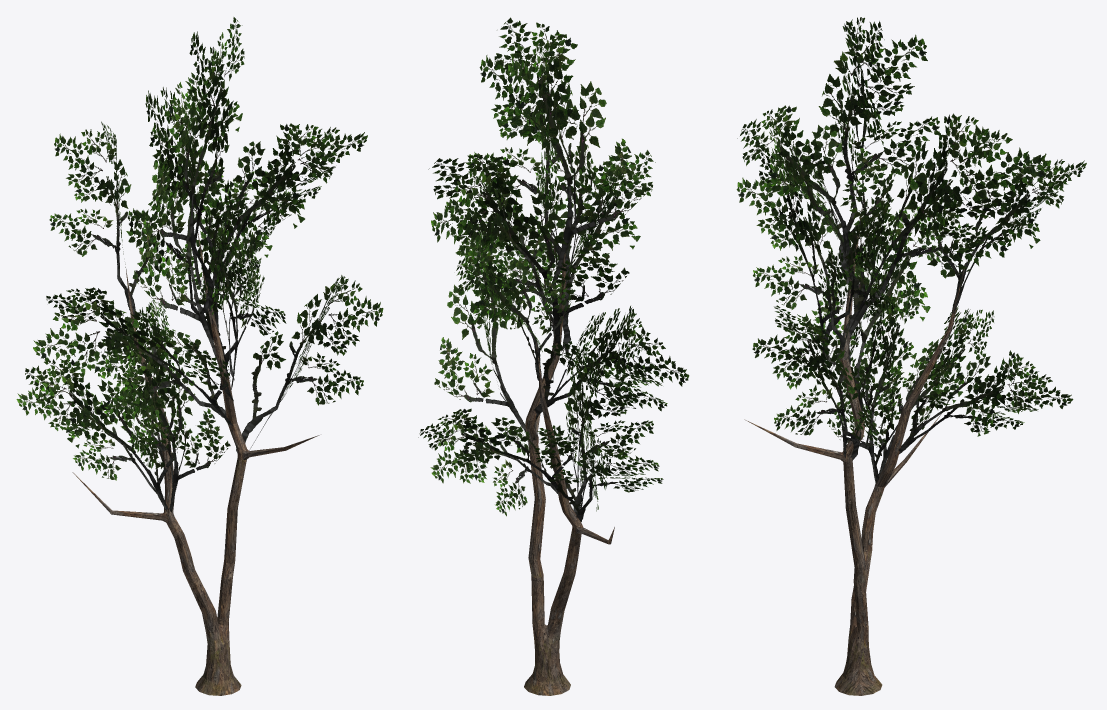
File: tree_6.dae
3 views of the same model, side by side, from view 1: azimuth 30°, elevation 25°; view 2: azimuth 150°, elevation 25°; view 3: azimuth 270°, elevation 25° (orthographic). The views are drawn at different scales.
Parts seen in each view (by area): view 1: Mesh_Object; view 2: Mesh_Object; view 3: Mesh_Object.
Part boxes in pixels (x1,y1,x2,y2): Mesh_Object: (16,17,383,695); Mesh_Object: (418,17,689,695); Mesh_Object: (736,17,1086,695).
Size of the model in its own units: 4.42 by 9.76 by 4.77.
